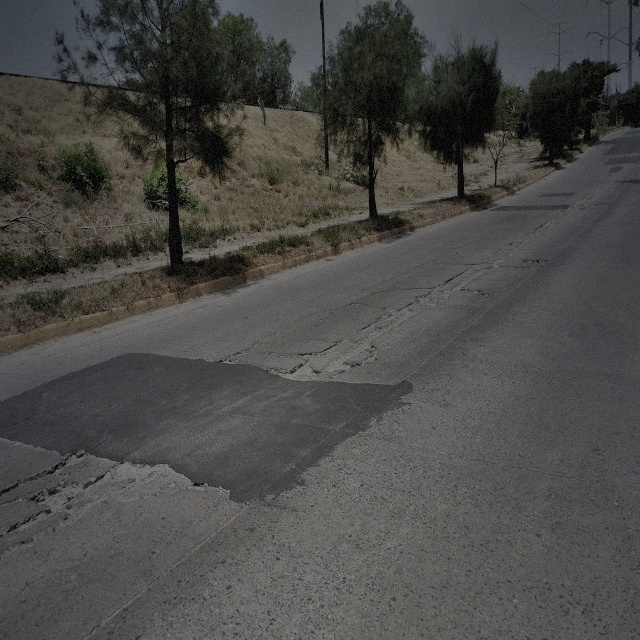pothole: (39, 474, 85, 523), (326, 335, 380, 371), (104, 461, 154, 484), (54, 442, 89, 471), (416, 284, 449, 312), (287, 357, 320, 379), (463, 285, 490, 299), (214, 357, 239, 369), (541, 216, 557, 233), (188, 480, 210, 492), (523, 256, 551, 264), (470, 268, 485, 280), (489, 262, 502, 271)
